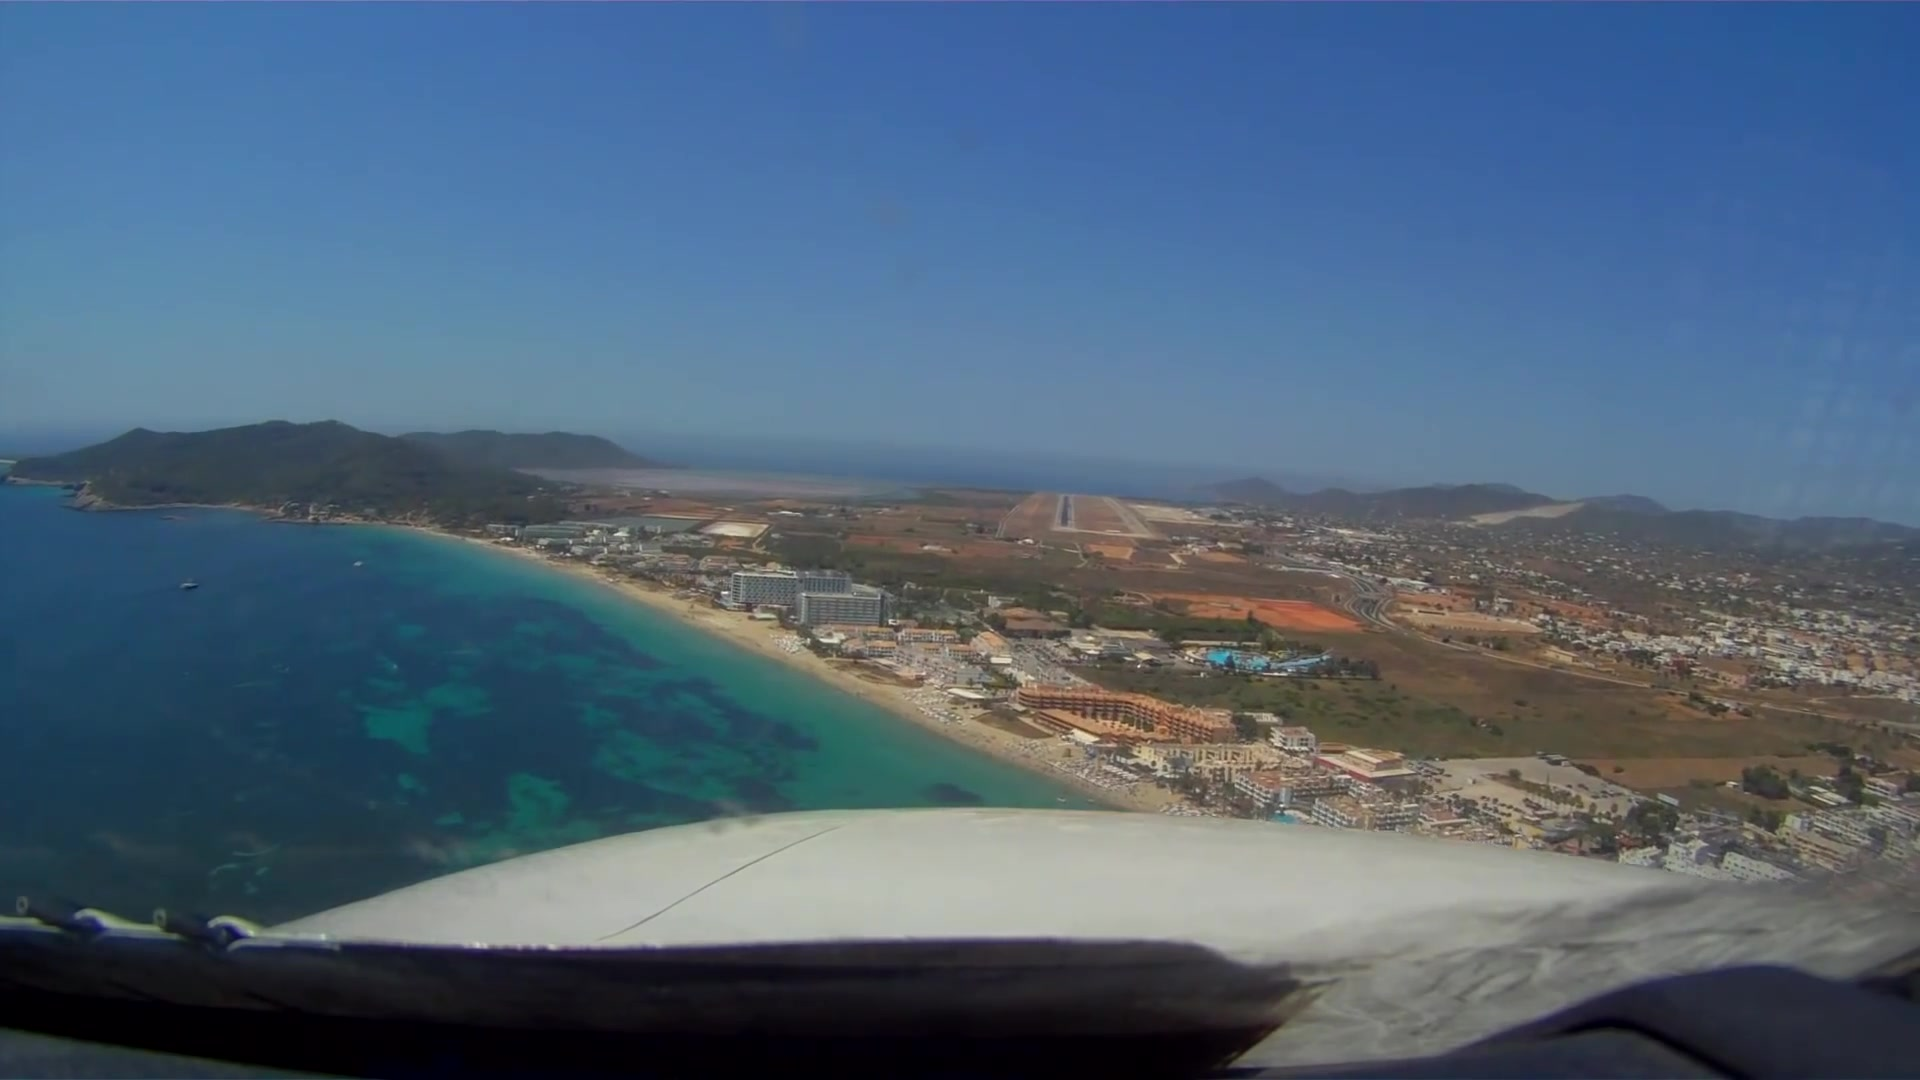runway: (1102, 497, 1154, 538), (1048, 491, 1079, 535)
